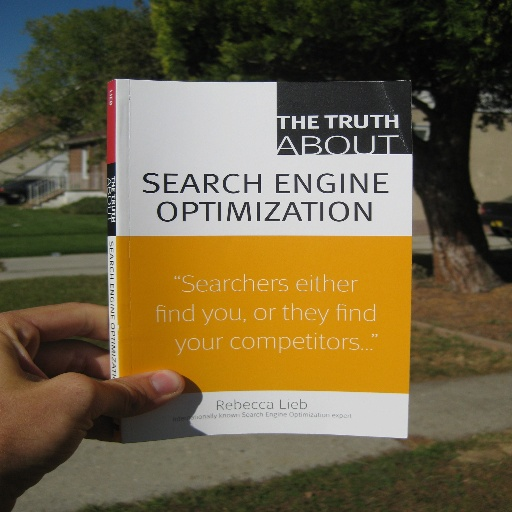hand: (2, 314, 168, 484)
